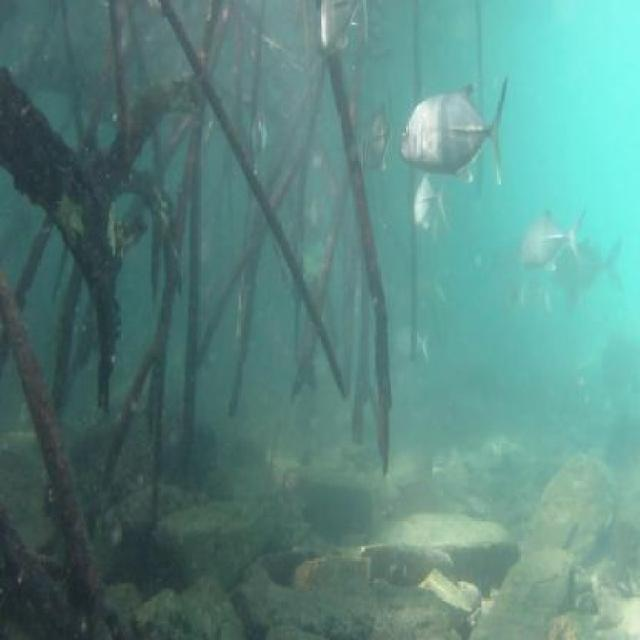Caranx_sexfasciatus_juvenile: (399, 81, 516, 190), (514, 194, 588, 280), (559, 232, 626, 300), (312, 1, 376, 61), (500, 264, 558, 324), (406, 168, 452, 240), (355, 94, 394, 178), (391, 310, 437, 376), (300, 181, 343, 239), (238, 105, 276, 170)
